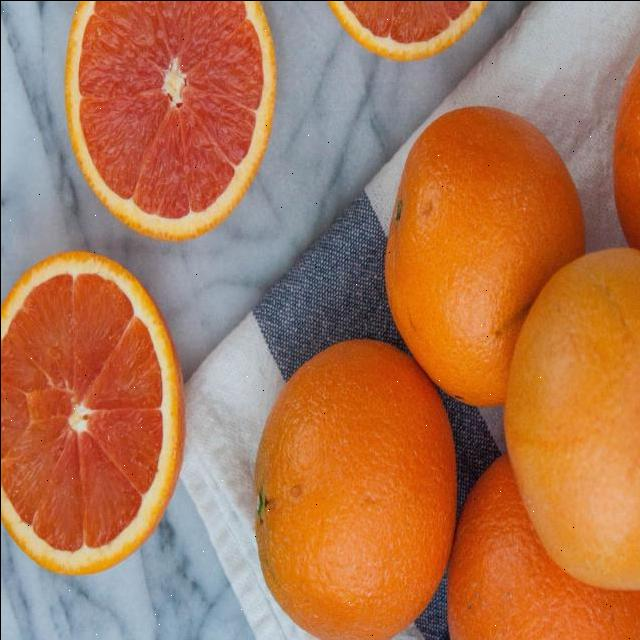Orange: (253, 338, 457, 640), (383, 106, 586, 408), (503, 248, 640, 593), (446, 453, 640, 640), (612, 53, 640, 250)
